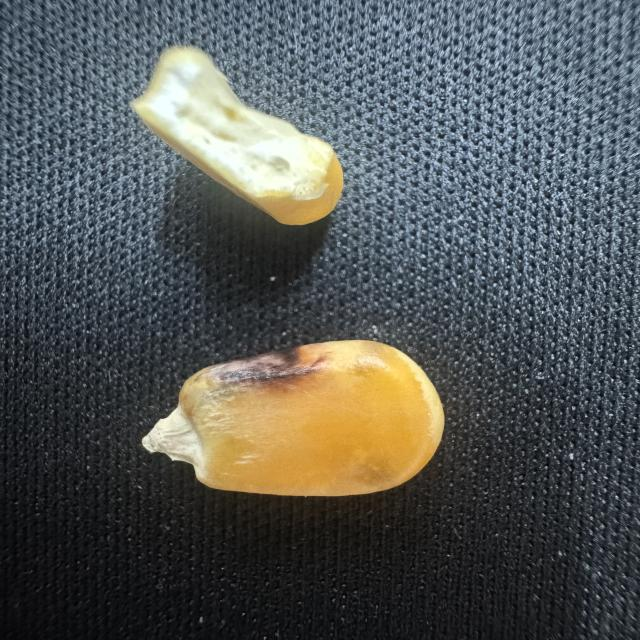Bad-Seed: (144, 335, 465, 520), (132, 38, 358, 248)
